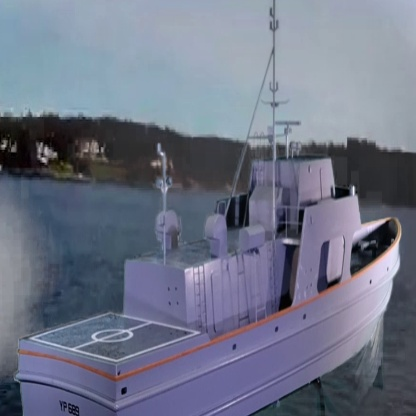YP689: (13, 0, 404, 416)
